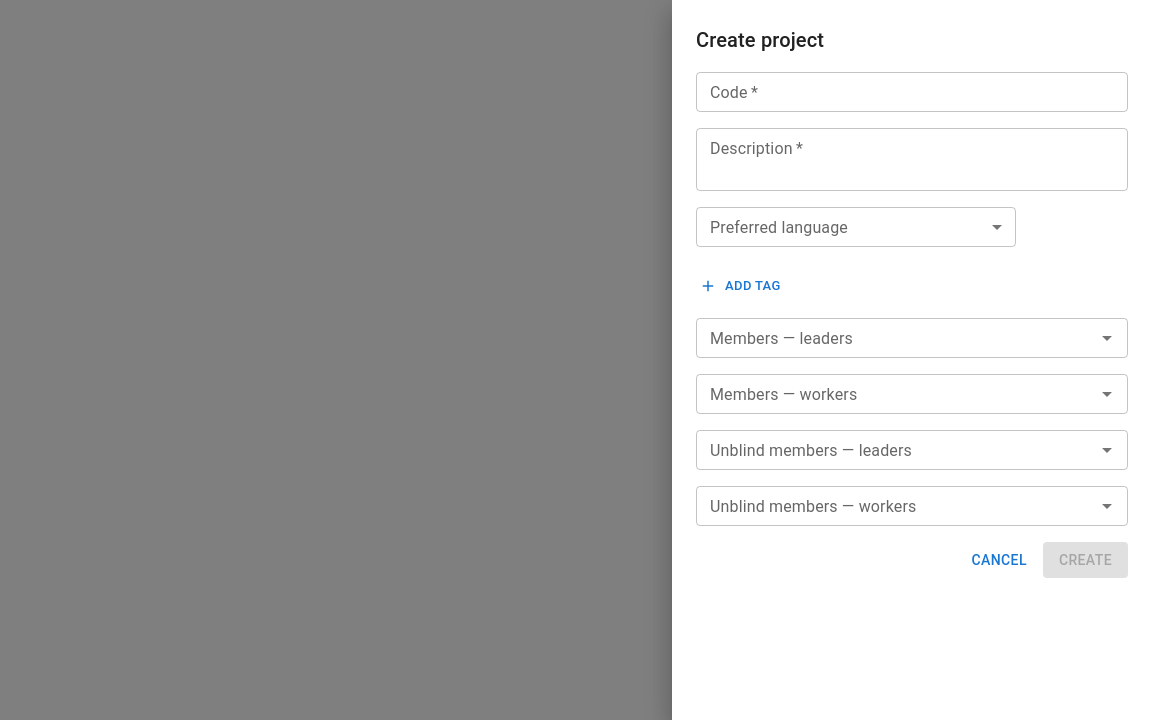
Test: ProjectDrawer — mutation error › shows an Alert with the error message when create_project fails
Type "newproj" into the field labelled "Code *".
click(912, 92); type("newproj")  # box [696,72,1128,112]
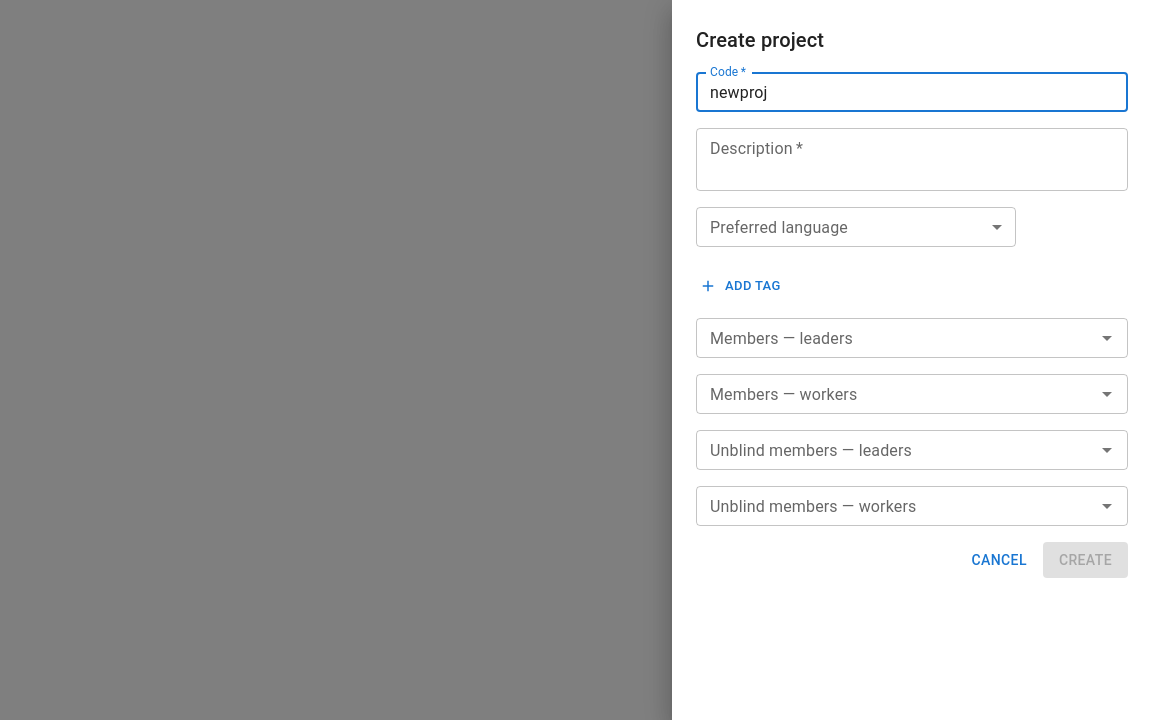
Type "New desc" into the text box labelled "Description *".
click(912, 160); type("New desc")  # box [710,136,1114,182]
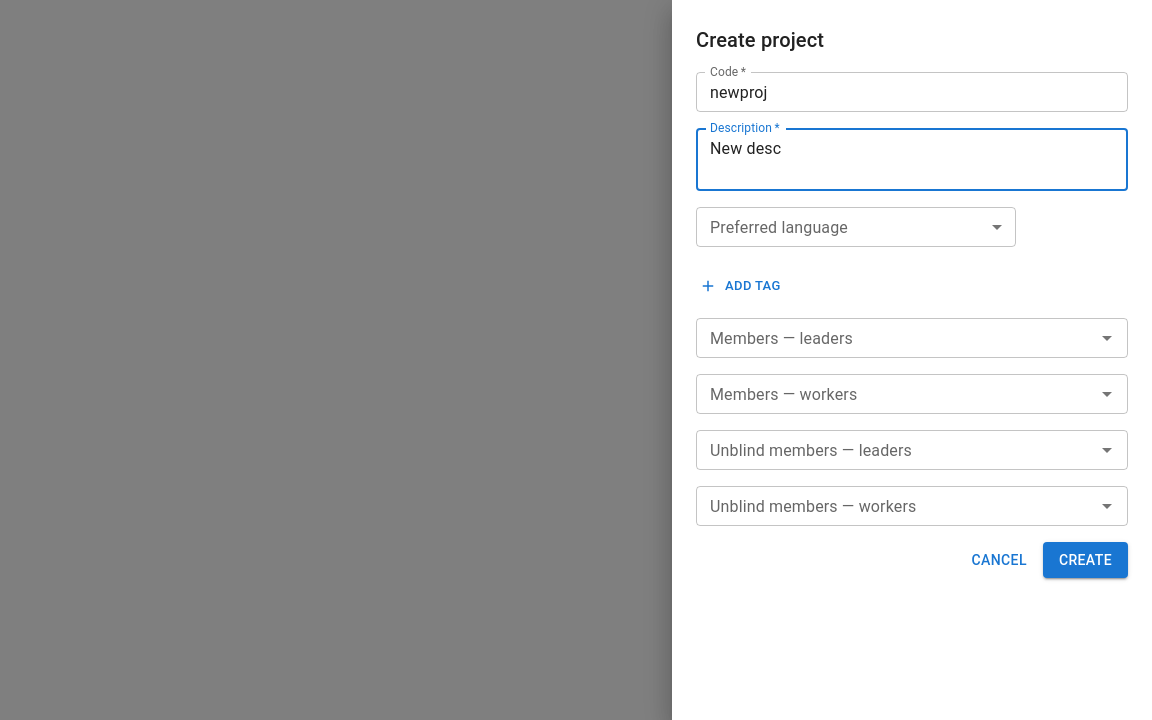
Click the button "Create".
click(1085, 560)  # box [1043,542,1128,578]
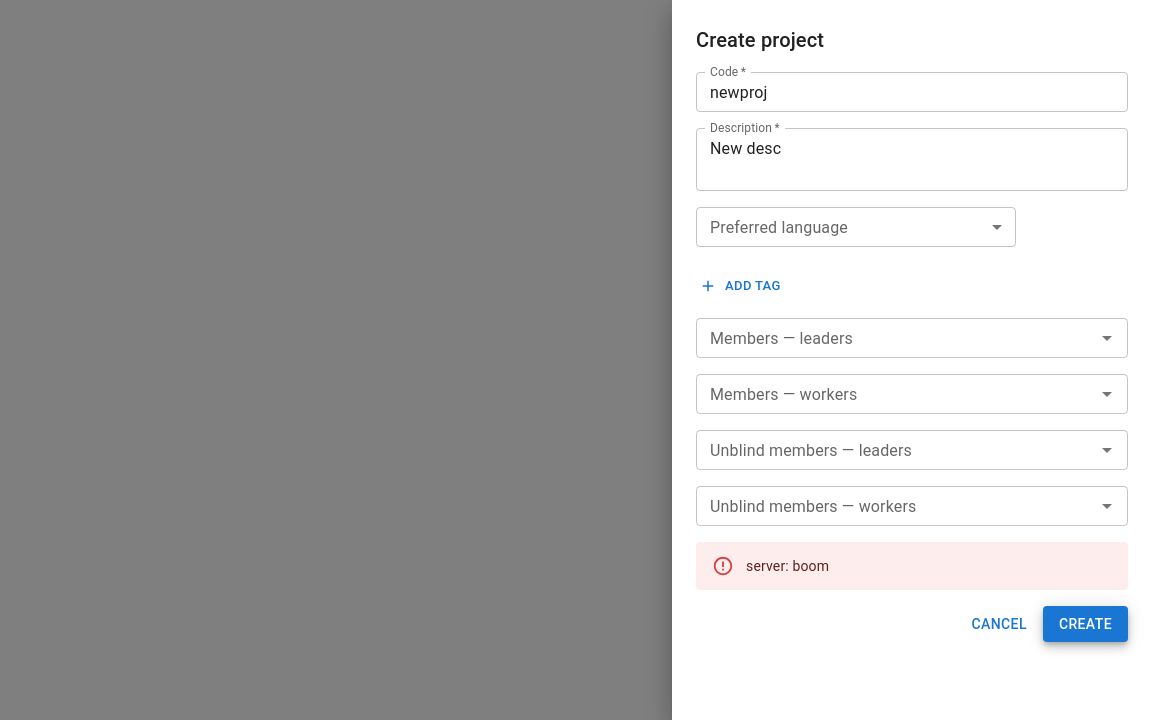
expect the message reads "server: boom": met, box [746,558,829,574]
